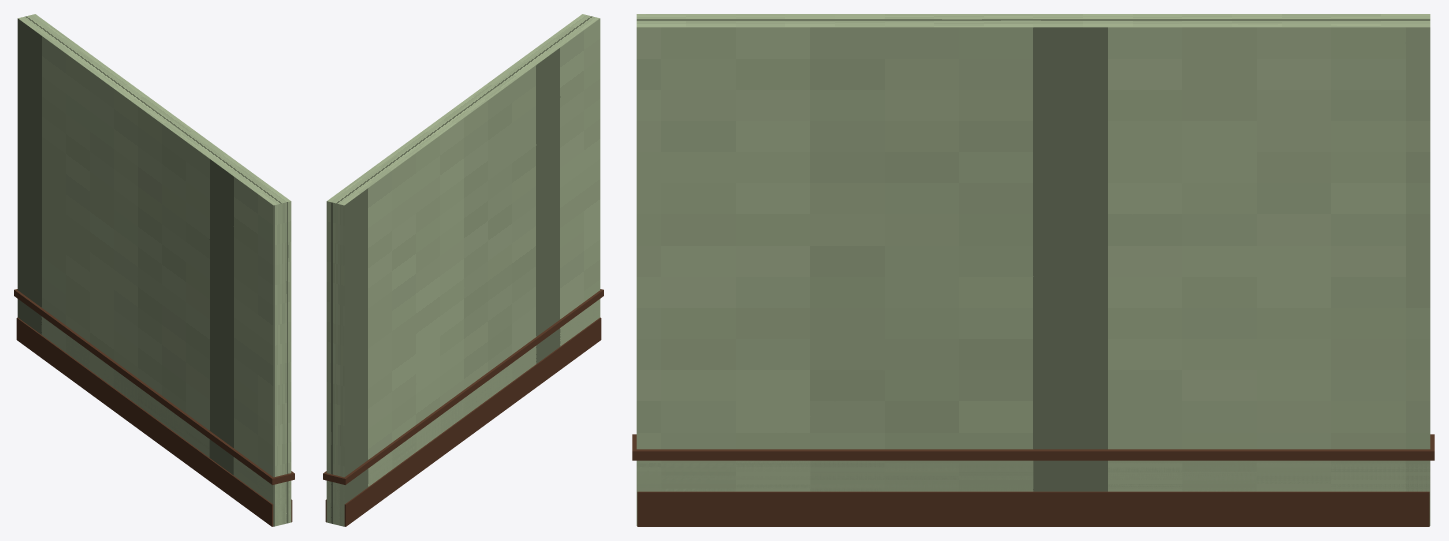
Rendered from back2.glb.
3 views of the same model, side by side, from view 1: azimuth 30°, elevation 25°; view 2: azimuth 150°, elevation 25°; view 3: azimuth 270°, elevation 25° (orthographic). The views are drawn at different scales.
Parts seen in each view (by area): view 1: Box1, Box2, Box3, Box4; view 2: Box1, Box2, Box4, Box3; view 3: Box1, Box2, Box3, Box4.
Part boxes in pixels (<box>): Box1: <box>17,14,291,526</box>; Box2: <box>16,317,292,526</box>; Box3: <box>19,302,291,526</box>; Box4: <box>14,289,294,484</box>; Box1: <box>326,14,600,526</box>; Box2: <box>325,317,601,526</box>; Box4: <box>323,289,603,484</box>; Box3: <box>326,304,598,526</box>; Box1: <box>636,14,1430,525</box>; Box2: <box>637,491,1429,526</box>; Box3: <box>636,460,1430,524</box>; Box4: <box>632,434,1434,460</box>.
Bounding box in the file's own units: 0.19 × 2.6 × 3.79.
Materials: 2 (1 with a texture image).
